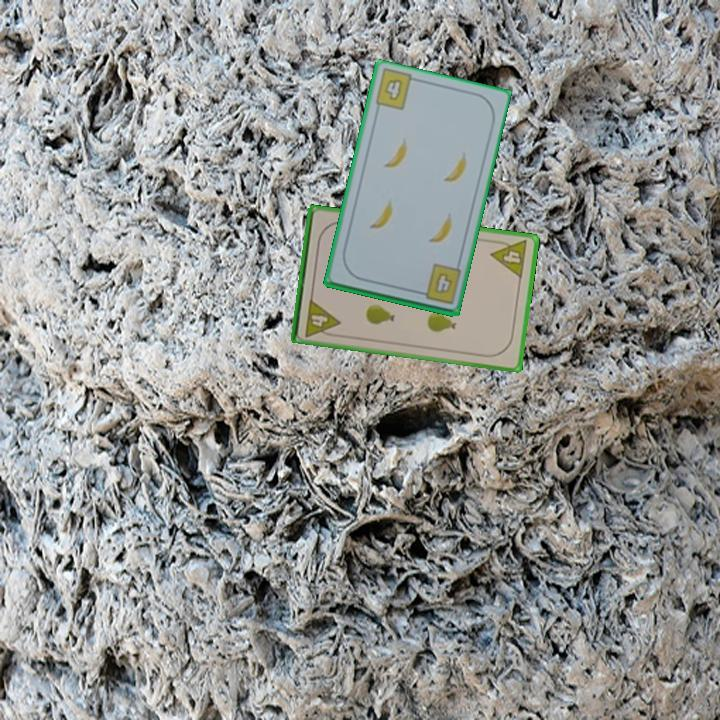4b: (413, 261, 464, 307), (381, 75, 405, 103)
4p: (487, 236, 531, 281), (301, 295, 343, 340)
